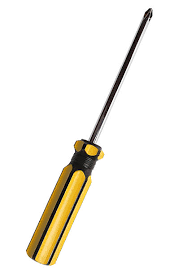Screwdriver: (30, 4, 158, 268)
